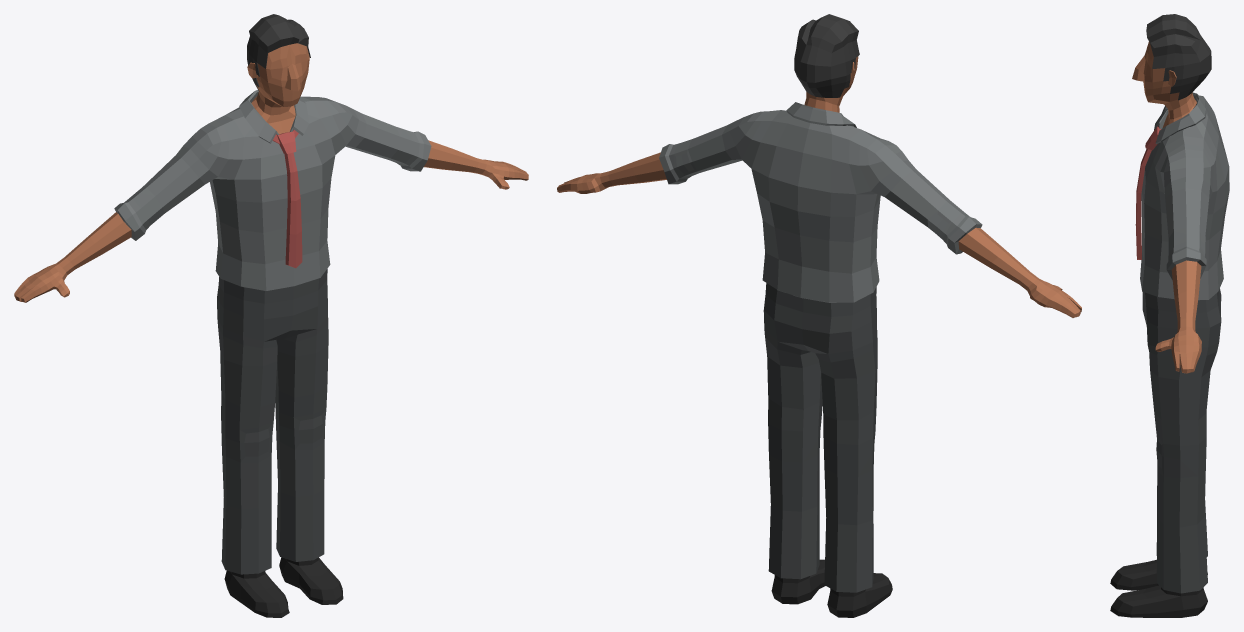
File: marcelo.fbx
3 renders of one model, left to right at view 1: azimuth 30°, elevation 25°; view 2: azimuth 150°, elevation 25°; view 3: azimuth 270°, elevation 25°, orthographic. The views are drawn at different scales.
Visible parts, largest first — view 1: Marcelo; view 2: Marcelo; view 3: Marcelo.
Boxes of the visible parts, x1,y1,x2,y2 form: Marcelo: (14,14,528,617); Marcelo: (557,14,1081,617); Marcelo: (1110,14,1229,617).
Size of the model in its own units: 165 by 177 by 33.09.
